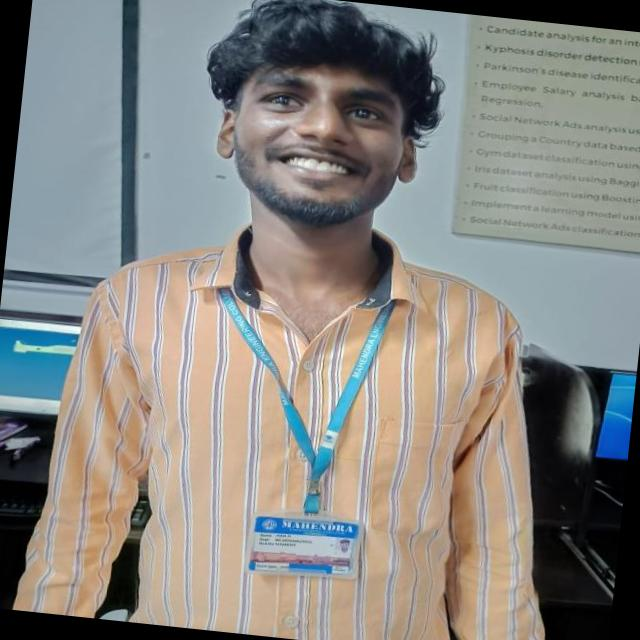id_card: (200, 270, 398, 584)
